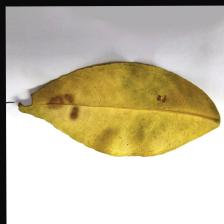black spot: (10, 72, 182, 134)
